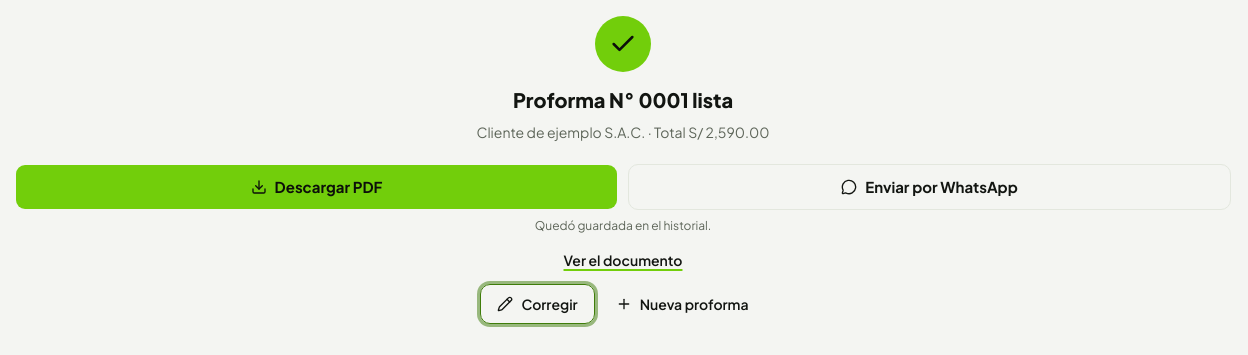
Test case: ProformaReady › si el cliente no tiene WhatsApp, no ofrece abrir el chat
Click the button "Enviar por WhatsApp" at (930, 187), box [628,164,1231,210]
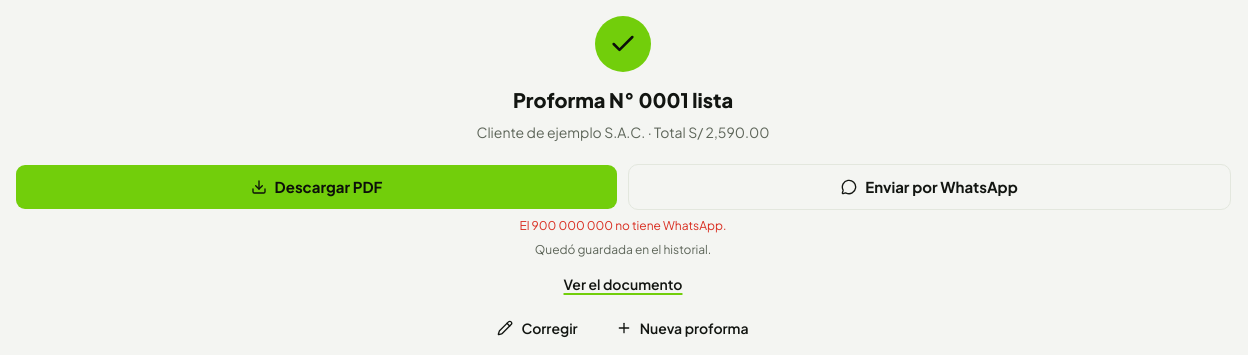
Now the message "El 900 000 000 no tiene WhatsApp." is shown, box [520,218,726,234]
